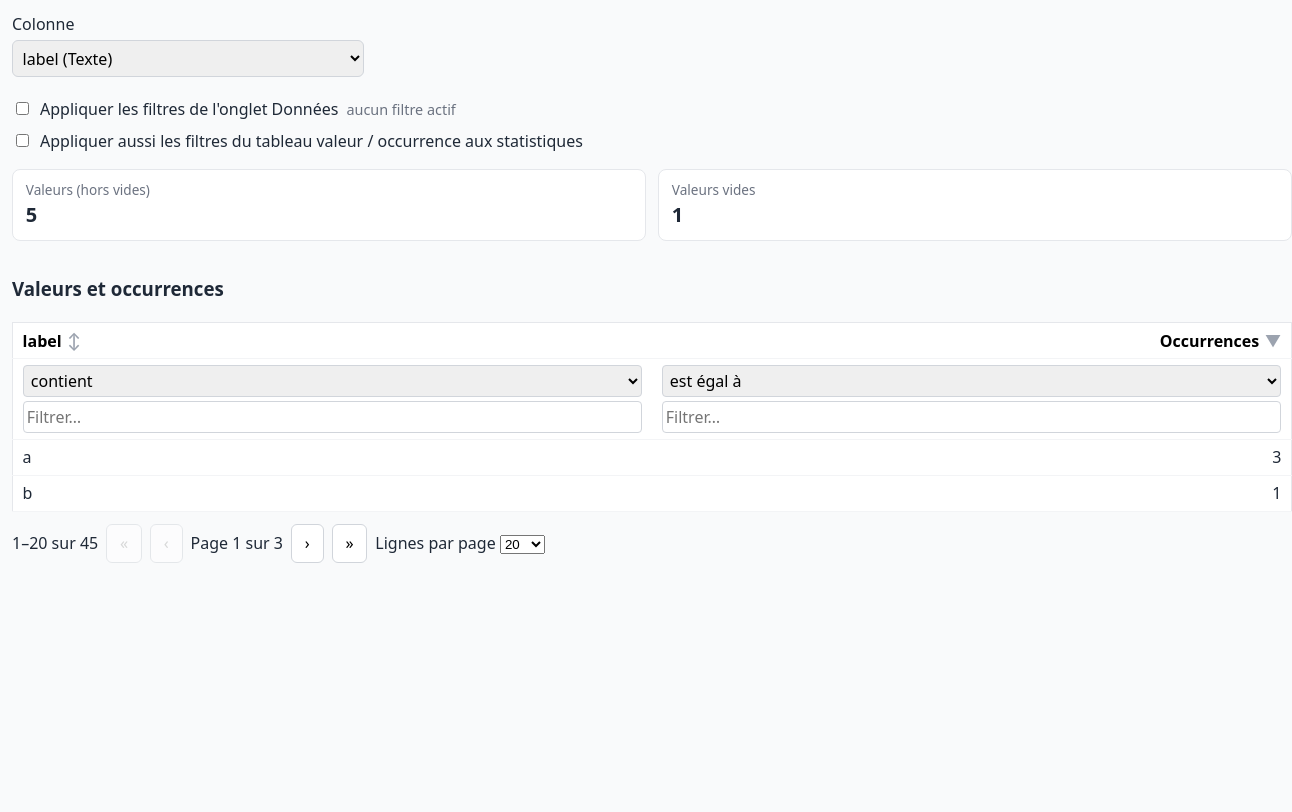
Test: StatsTab › does not show the figures of the previous column while the new one loads
Expected: the text "a" is shown, [12,439,652,475]
Select "n (Entier)" in the dropdown labelled "Colonne" at (188, 59), box [12,40,364,77]
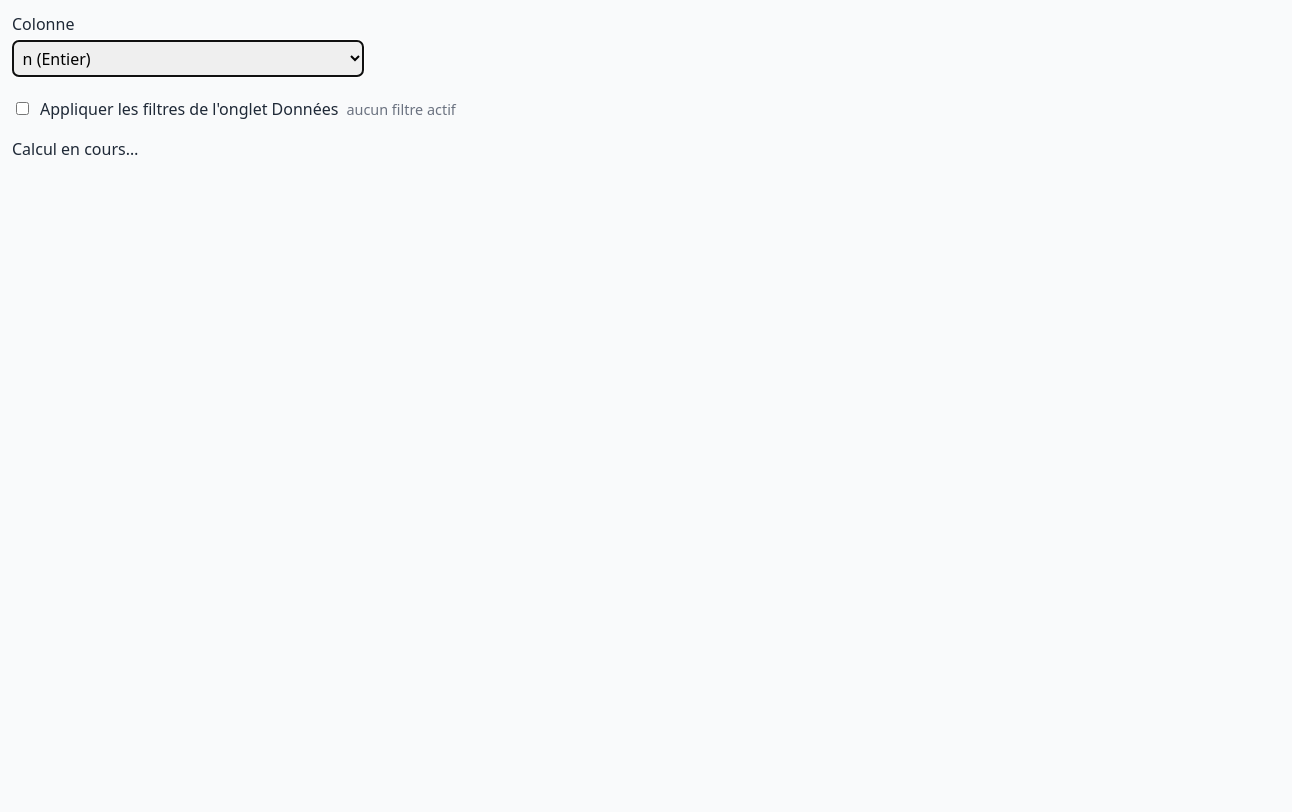
Now the text "Calcul en cours…" is shown, box [12,138,138,160]
